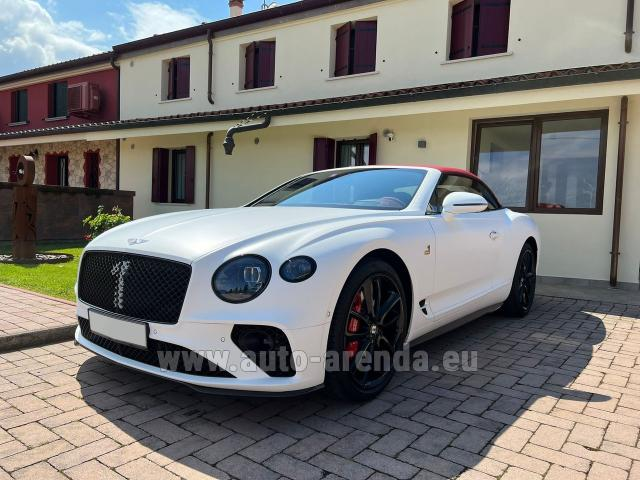bentley: (74, 165, 540, 405)
